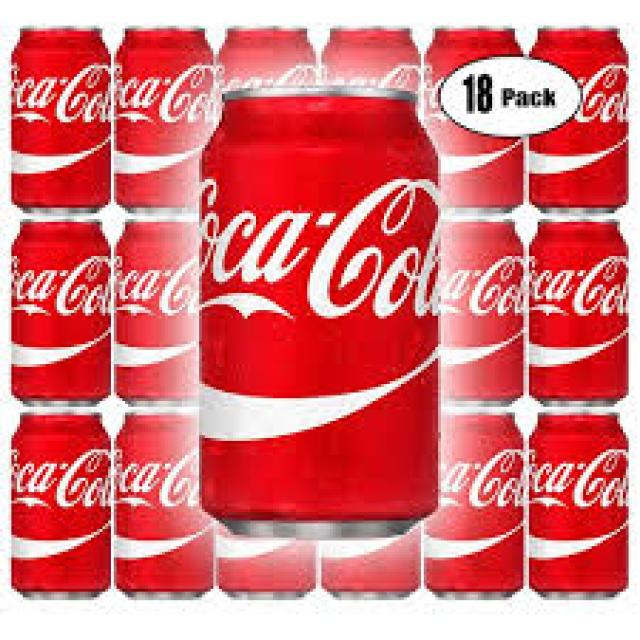Coca-Cola: (193, 72, 446, 542), (3, 13, 115, 222), (3, 408, 117, 604), (216, 15, 317, 236), (5, 220, 116, 407), (115, 215, 222, 403), (116, 403, 214, 608), (422, 215, 526, 406), (427, 402, 525, 604), (528, 410, 630, 604), (328, 13, 422, 221), (118, 22, 217, 219), (534, 14, 630, 215), (527, 216, 630, 401), (430, 16, 530, 204)
